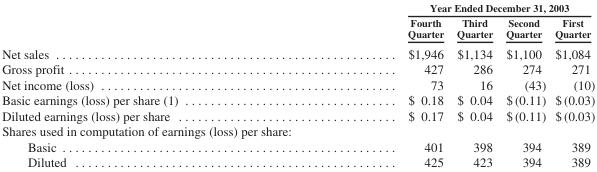table: (1, 1, 594, 168)
table column: (1, 1, 292, 168), (292, 1, 449, 168), (498, 1, 549, 168), (449, 1, 498, 168), (549, 1, 594, 168)
table column header: (1, 1, 594, 42)
table projected row header: (1, 122, 594, 138)
table row: (1, 15, 594, 42), (1, 42, 594, 60), (1, 60, 594, 76), (1, 91, 594, 107), (1, 122, 594, 138), (1, 76, 594, 91), (1, 107, 594, 122), (1, 138, 594, 153), (1, 153, 594, 168), (1, 1, 594, 15)
table spanning cell: (292, 1, 594, 15)
